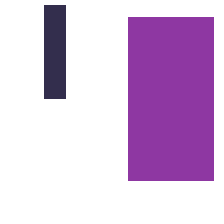rectangle: (128, 17, 213, 180), (44, 5, 65, 98)
